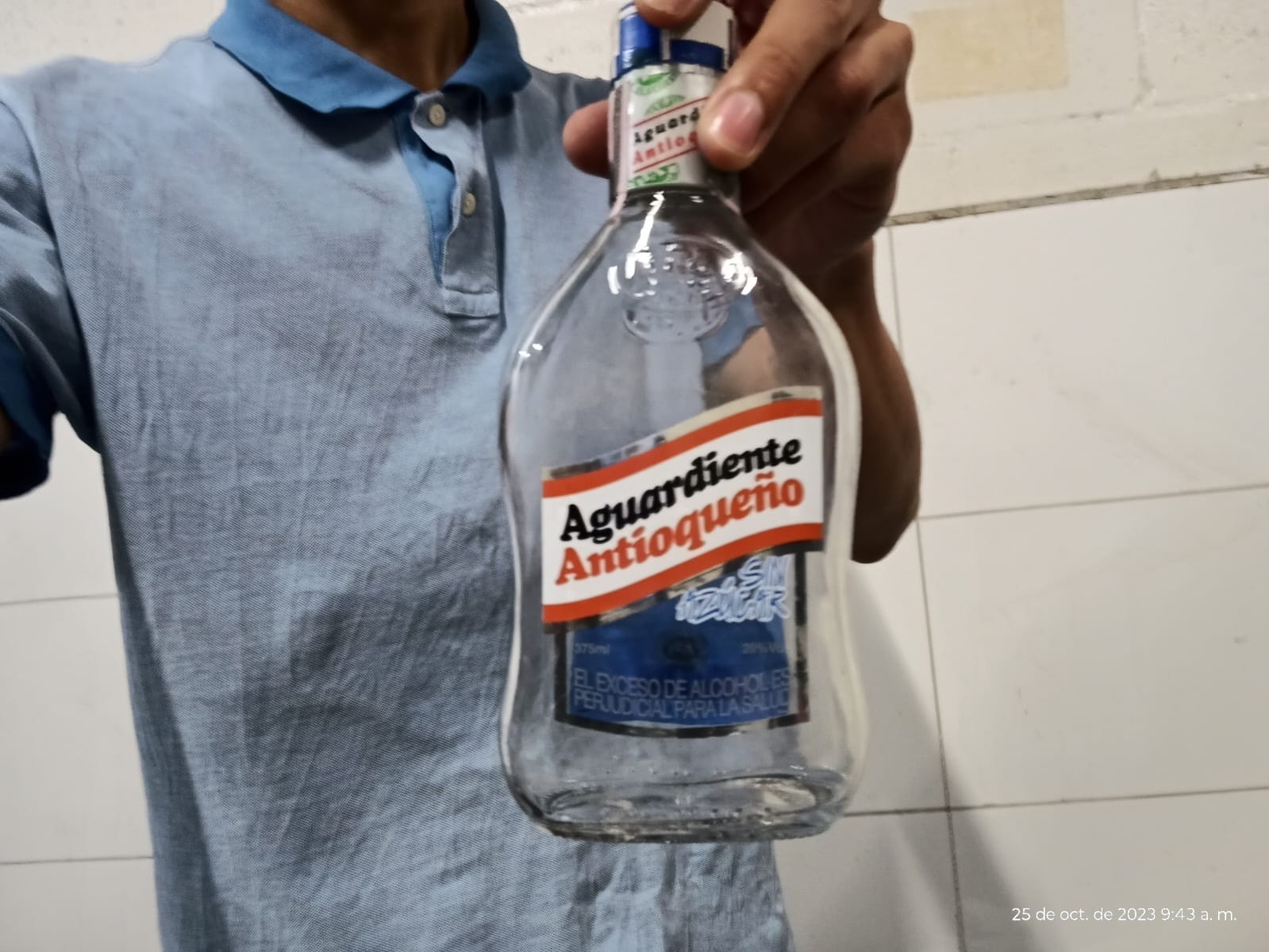Vidrio: (498, 0, 866, 842)
